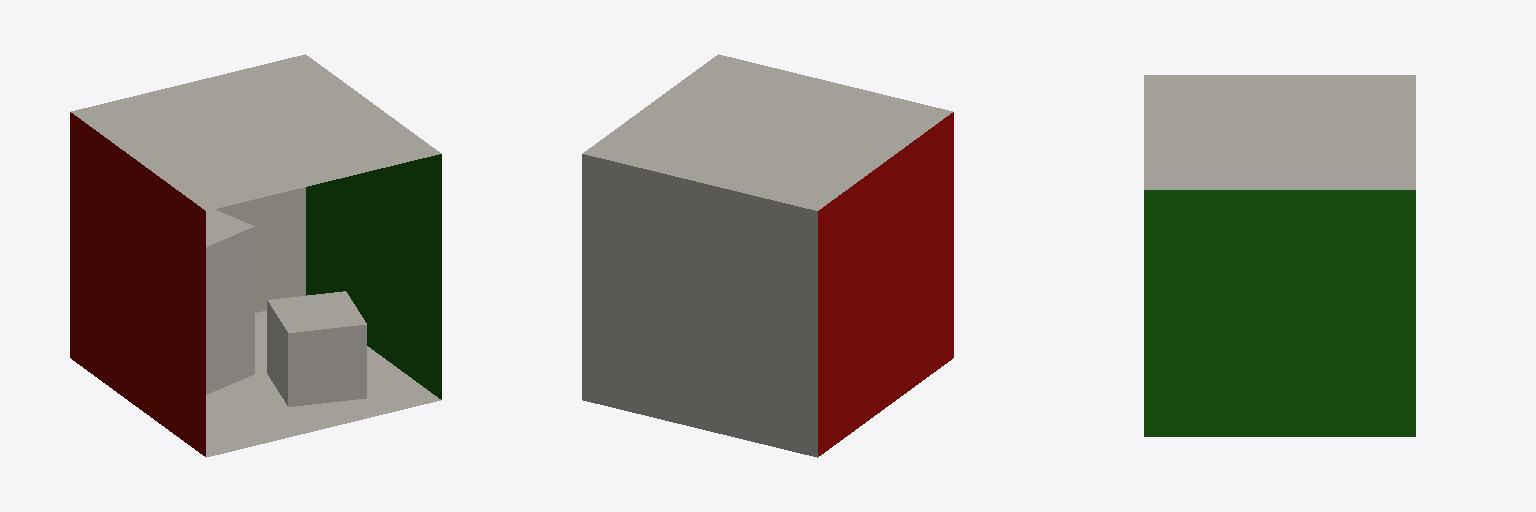
File: cornell_box.obj
3 renders of one model, left to right at view 1: azimuth 30°, elevation 25°; view 2: azimuth 150°, elevation 25°; view 3: azimuth 270°, elevation 25°, orthographic.
Parts seen in each view (by area): view 1: cb_back, cb_ceiling, cb_floor, cb_shortbox, cb_tallbox; view 2: cb_back, cb_ceiling; view 3: cb_back, cb_ceiling.
Part boxes in pixels (x1,y1,x2,y2): cb_back: (70,112,441,456); cb_ceiling: (71,54,440,210); cb_floor: (206,310,440,457); cb_shortbox: (267,291,366,406); cb_tallbox: (206,209,254,394); cb_back: (582,112,953,457); cb_ceiling: (583,54,952,210); cb_back: (1144,190,1415,436); cb_ceiling: (1144,75,1415,189).
Bounding box in the file's own units: 2 × 2 × 2.